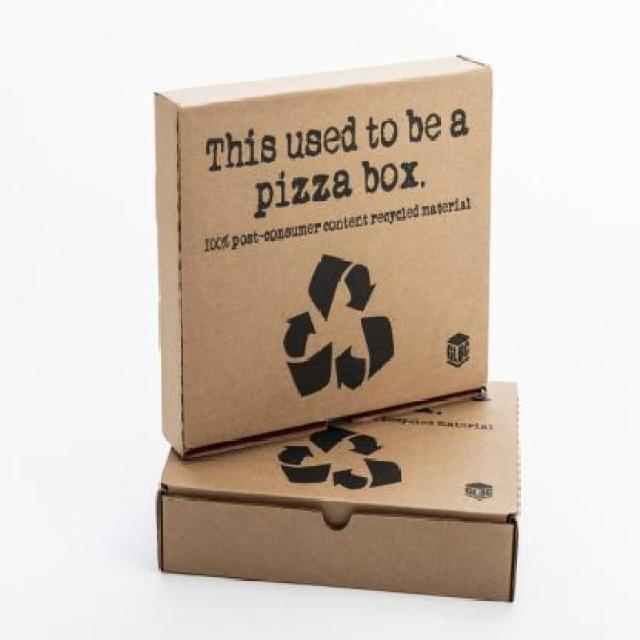box: (150, 52, 486, 460), (153, 377, 526, 612)
